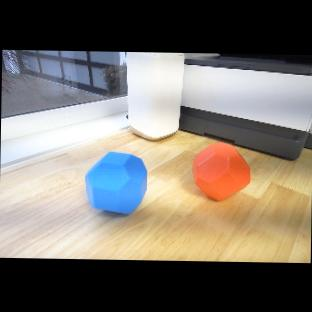V5_BLUE: (84, 150, 149, 215)
V5_RED: (190, 141, 251, 202)
